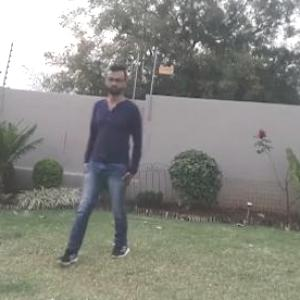follow: (89, 62, 159, 263)
